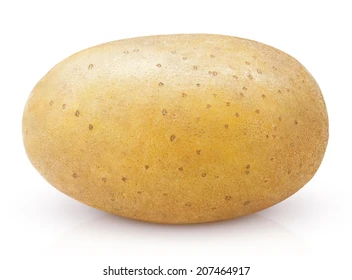potato: (16, 32, 332, 234)
